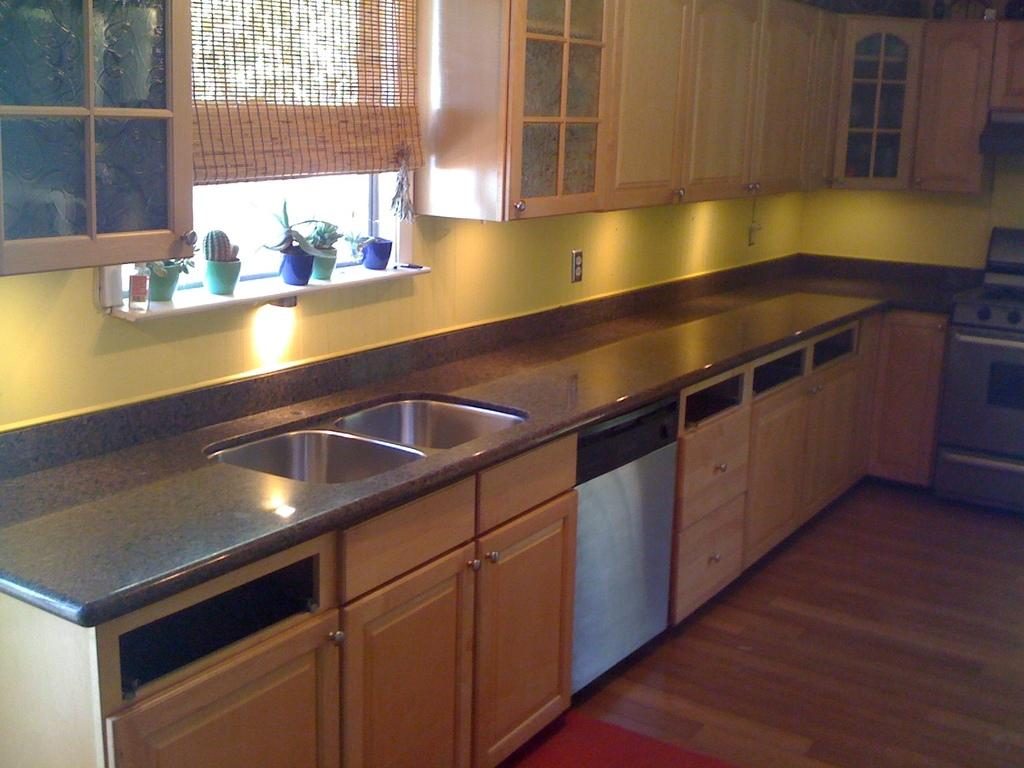cabinet_door: (0, 13, 194, 257), (350, 548, 478, 768), (472, 517, 574, 736), (126, 682, 340, 768), (518, 9, 604, 213), (614, 6, 688, 213), (694, 23, 756, 202), (916, 32, 977, 189), (850, 23, 904, 188), (760, 31, 801, 190), (756, 385, 802, 524), (806, 383, 860, 500), (682, 506, 750, 584), (686, 428, 748, 502)
handle: (958, 324, 1024, 362), (948, 442, 1024, 474), (312, 621, 342, 655), (457, 546, 481, 584), (502, 191, 530, 221), (478, 542, 504, 574), (702, 542, 724, 573), (711, 458, 733, 488), (178, 222, 198, 252), (672, 181, 690, 207)
